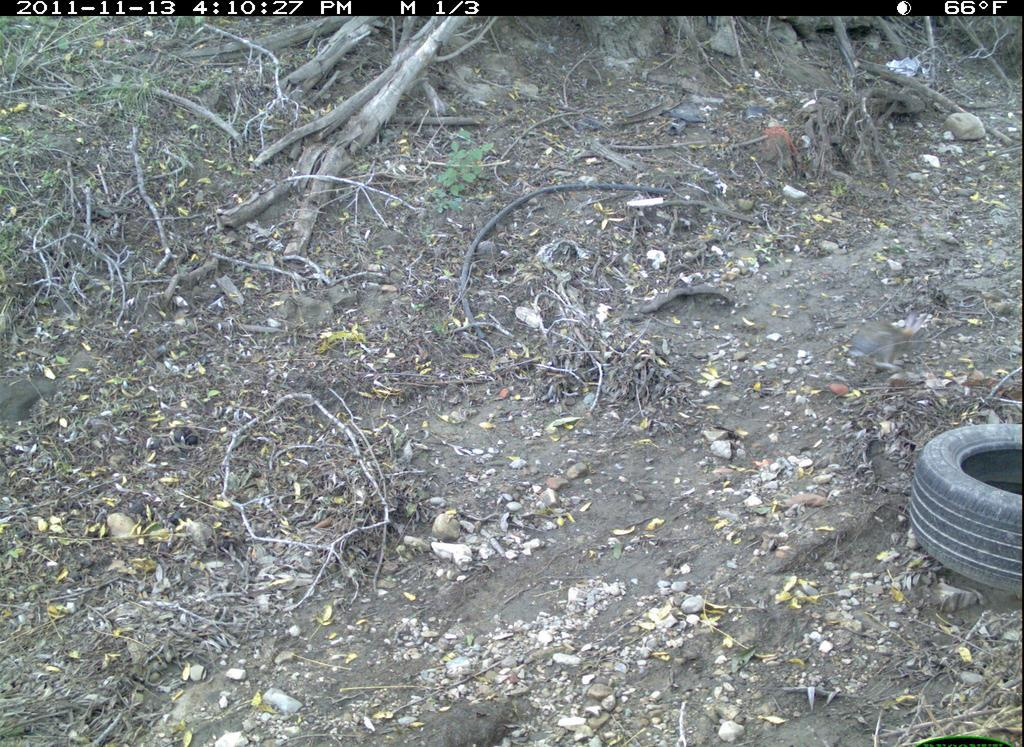rabbit: (843, 307, 932, 378)
